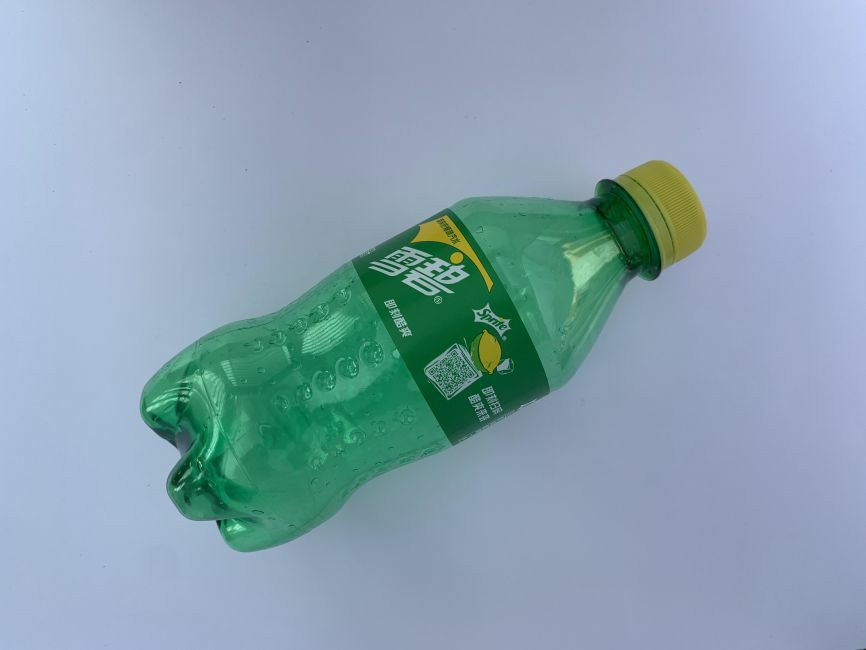bottle: (134, 155, 713, 558)
